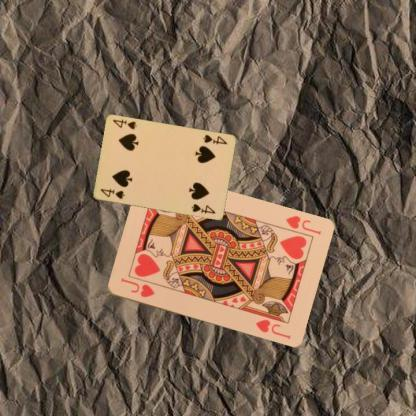4s: (199, 131, 228, 147), (98, 186, 126, 200)
Jh: (118, 274, 155, 300), (282, 214, 322, 236)
